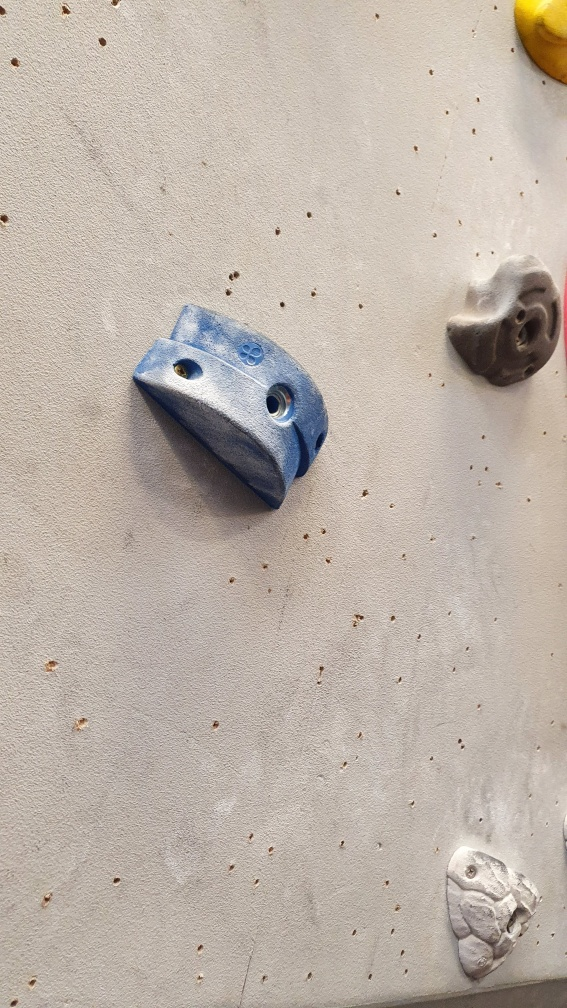Pinch: (127, 297, 334, 513)
